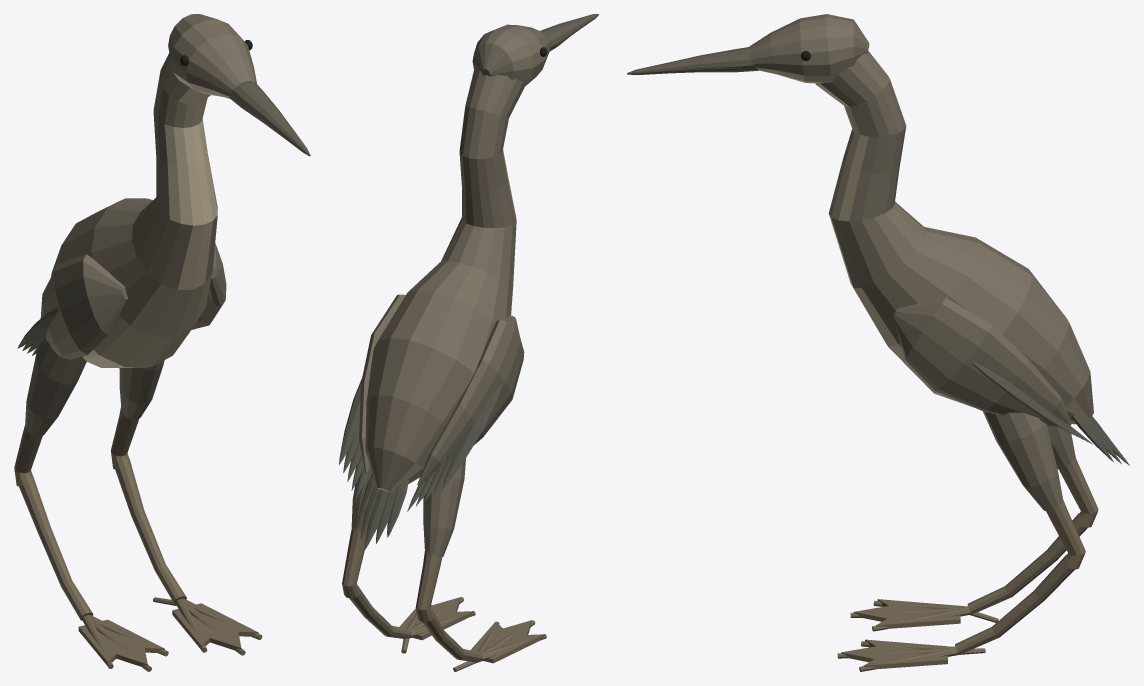
3 views of the same model, side by side, from view 1: azimuth 30°, elevation 25°; view 2: azimuth 150°, elevation 25°; view 3: azimuth 270°, elevation 25° (orthographic). The views are drawn at different scales.
Visible parts, largest first — view 1: body-and-curved-neck, left-wing-coverts, small-rounded-braincase, left-feathered-thigh, left-tarsometatarsus, right-tarsometatarsus, long-narrow-pointed-bill, right-feathered-thigh, right-inferred-webbing, left-inferred-webbing, right-wing-coverts, right-swimming-toes (+4 smaller); view 2: body-and-curved-neck, left-wing-coverts, small-rounded-braincase, left-feathered-thigh, short-feathered-tail, left-folded-flight-feathers, right-folded-flight-feathers, right-wing-coverts, left-inferred-webbing, left-lower-leg, right-lower-leg, right-inferred-webbing (+6 smaller); view 3: body-and-curved-neck, right-wing-coverts, small-rounded-braincase, right-feathered-thigh, right-tarsometatarsus, long-narrow-pointed-bill, left-tarsometatarsus, left-inferred-webbing, right-inferred-webbing, left-lower-leg, right-lower-leg, right-folded-flight-feathers (+4 smaller).
Part boxes in pixels (x1=…): body-and-curved-neck: x1=51, y1=53, x2=217, y2=367; left-wing-coverts: x1=40, y1=254, x2=128, y2=359; small-rounded-braincase: x1=168, y1=14, x2=256, y2=98; left-feathered-thigh: x1=25, y1=338, x2=86, y2=436; left-tarsometatarsus: x1=19, y1=475, x2=93, y2=620; right-tarsometatarsus: x1=115, y1=459, x2=186, y2=603; long-narrow-pointed-bill: x1=228, y1=82, x2=310, y2=156; right-feathered-thigh: x1=119, y1=360, x2=164, y2=419; right-inferred-webbing: x1=172, y1=603, x2=258, y2=650; left-inferred-webbing: x1=78, y1=619, x2=164, y2=666; right-wing-coverts: x1=192, y1=243, x2=226, y2=329; right-swimming-toes: x1=153, y1=597, x2=262, y2=655; body-and-curved-neck: x1=365, y1=68, x2=524, y2=491; left-wing-coverts: x1=417, y1=315, x2=524, y2=485; small-rounded-braincase: x1=472, y1=24, x2=551, y2=86; left-feathered-thigh: x1=423, y1=458, x2=465, y2=556; short-feathered-tail: x1=356, y1=473, x2=408, y2=549; left-folded-flight-feathers: x1=407, y1=384, x2=501, y2=511; right-folded-flight-feathers: x1=339, y1=378, x2=370, y2=498; right-wing-coverts: x1=359, y1=294, x2=405, y2=474; left-inferred-webbing: x1=470, y1=620, x2=544, y2=663; left-lower-leg: x1=415, y1=549, x2=442, y2=622; right-lower-leg: x1=342, y1=528, x2=367, y2=598; right-inferred-webbing: x1=399, y1=597, x2=473, y2=640; body-and-curved-neck: x1=815, y1=51, x2=1093, y2=424; right-wing-coverts: x1=893, y1=297, x2=1071, y2=426; small-rounded-braincase: x1=749, y1=14, x2=869, y2=83; right-feathered-thigh: x1=983, y1=411, x2=1063, y2=510; right-tarsometatarsus: x1=955, y1=554, x2=1074, y2=654; long-narrow-pointed-bill: x1=627, y1=47, x2=758, y2=74; left-tarsometatarsus: x1=967, y1=513, x2=1087, y2=613; left-inferred-webbing: x1=853, y1=599, x2=960, y2=628; right-inferred-webbing: x1=841, y1=639, x2=947, y2=669; left-lower-leg: x1=1059, y1=458, x2=1098, y2=527; right-lower-leg: x1=1046, y1=499, x2=1085, y2=569; right-folded-flight-feathers: x1=971, y1=361, x2=1092, y2=444.
Size of the model in its own units: 0.103 by 0.43 by 0.3158.
